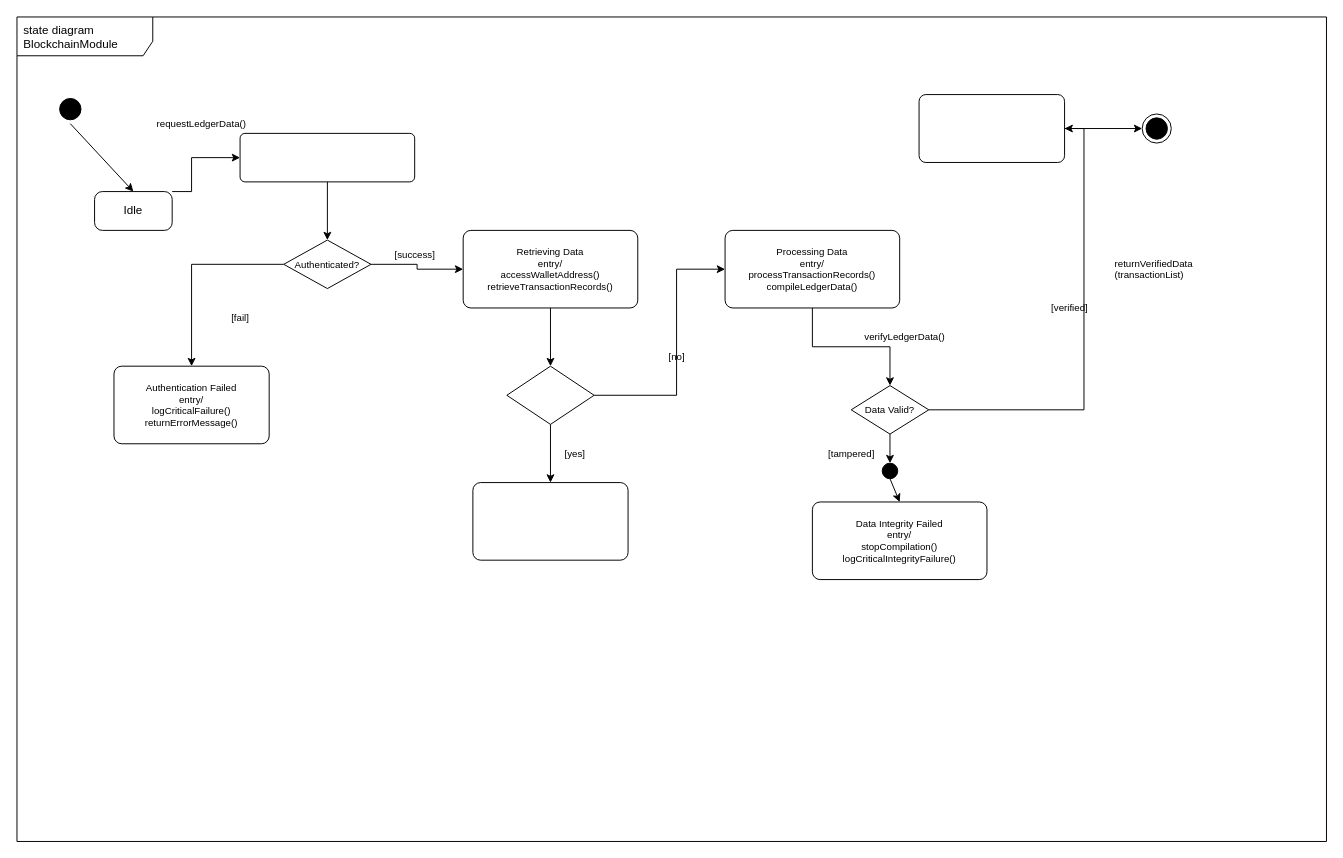
This 1343x858 diagram has some shape labels left out. Here are the shapes that lost their labels. From the top down, the centre of each, then its label:
(x=991, y=128): Returning Data entry/ returnVerifiedData()
(x=327, y=157): Verifying Request Entry / verifyRequestAuthenticity()
(x=550, y=394): Check Timeout
(x=550, y=521): Network Timeout entry/ haltProcessing() returnErrorMessage()
